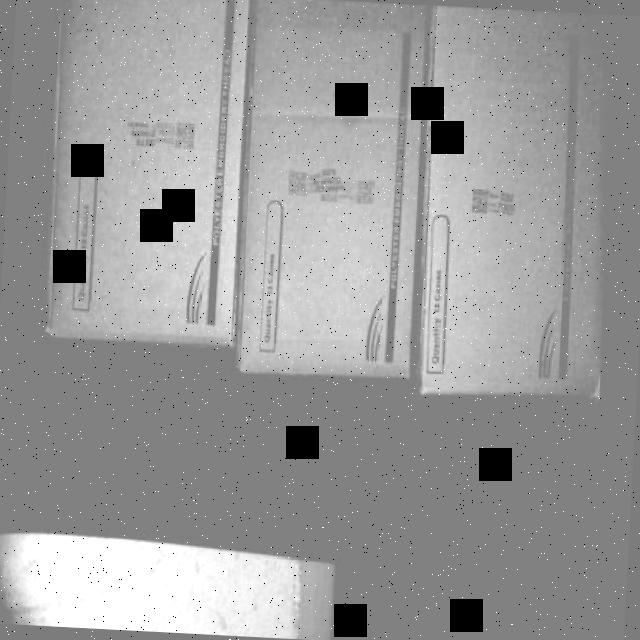box: (418, 11, 628, 402), (235, 1, 432, 388), (40, 0, 252, 338)
